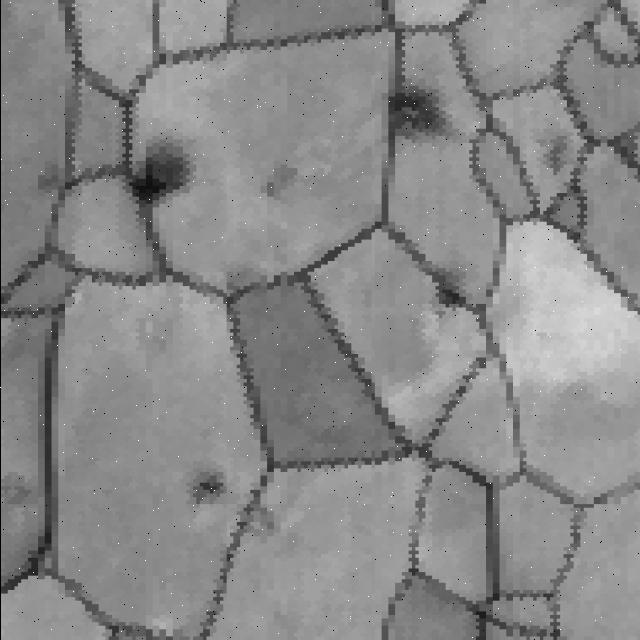good_void: (117, 126, 204, 219), (375, 88, 456, 153), (253, 151, 308, 208), (179, 456, 242, 504), (240, 494, 288, 543), (429, 262, 468, 321), (532, 122, 574, 176), (0, 469, 35, 512), (35, 160, 68, 203)
